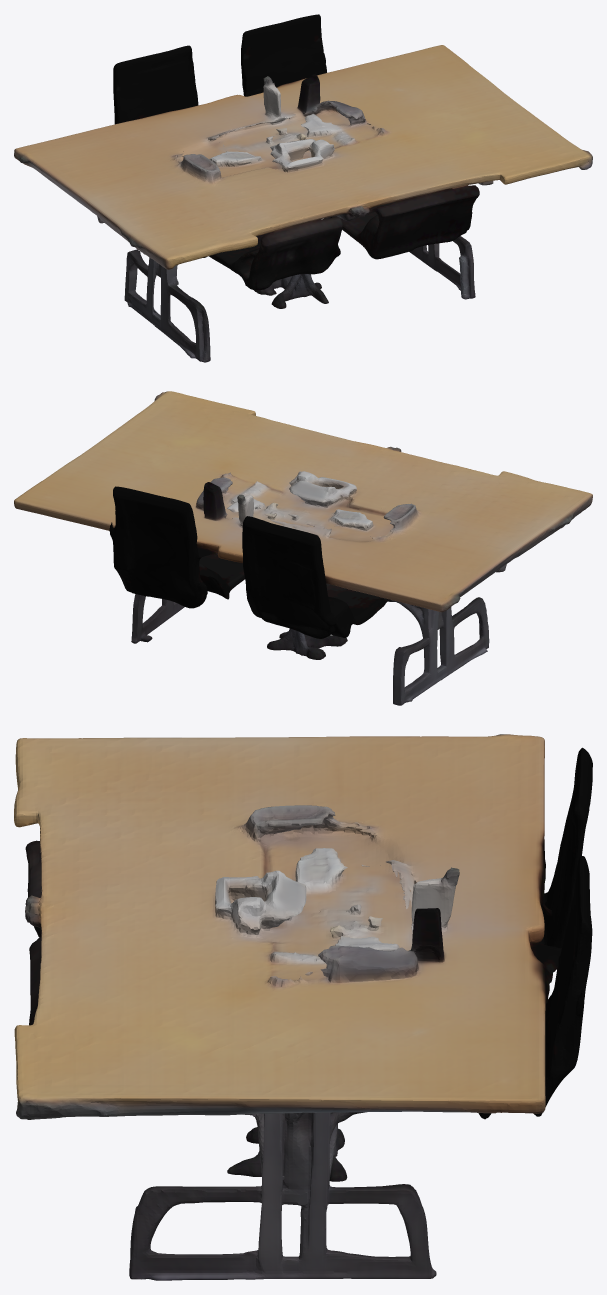
The model's file is trellis.glb.
3 renders of one model, top to bottom at view 1: azimuth 30°, elevation 25°; view 2: azimuth 150°, elevation 25°; view 3: azimuth 270°, elevation 25°, orthographic. The views are drawn at different scales.
Parts seen in each view (by area): view 1: world; view 2: world; view 3: world.
Boxes of the visible parts, x1,y1,x2,y2 form: world: [14, 14, 592, 362]; world: [14, 391, 592, 705]; world: [14, 734, 592, 1280].
Size of the model in its own units: 1 by 0.4311 by 0.6627.
